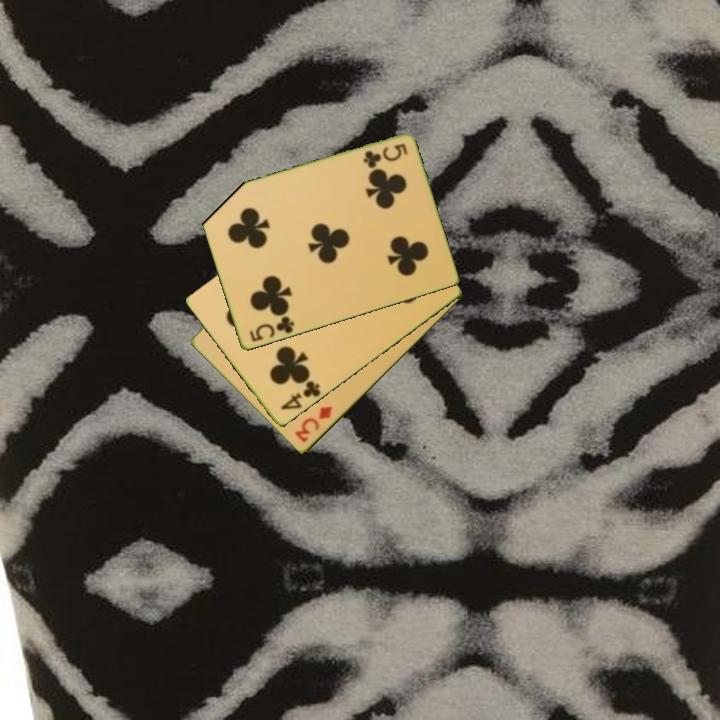3d: (291, 403, 335, 446)
4c: (277, 377, 323, 413)
5c: (246, 313, 297, 345), (359, 140, 411, 170)
